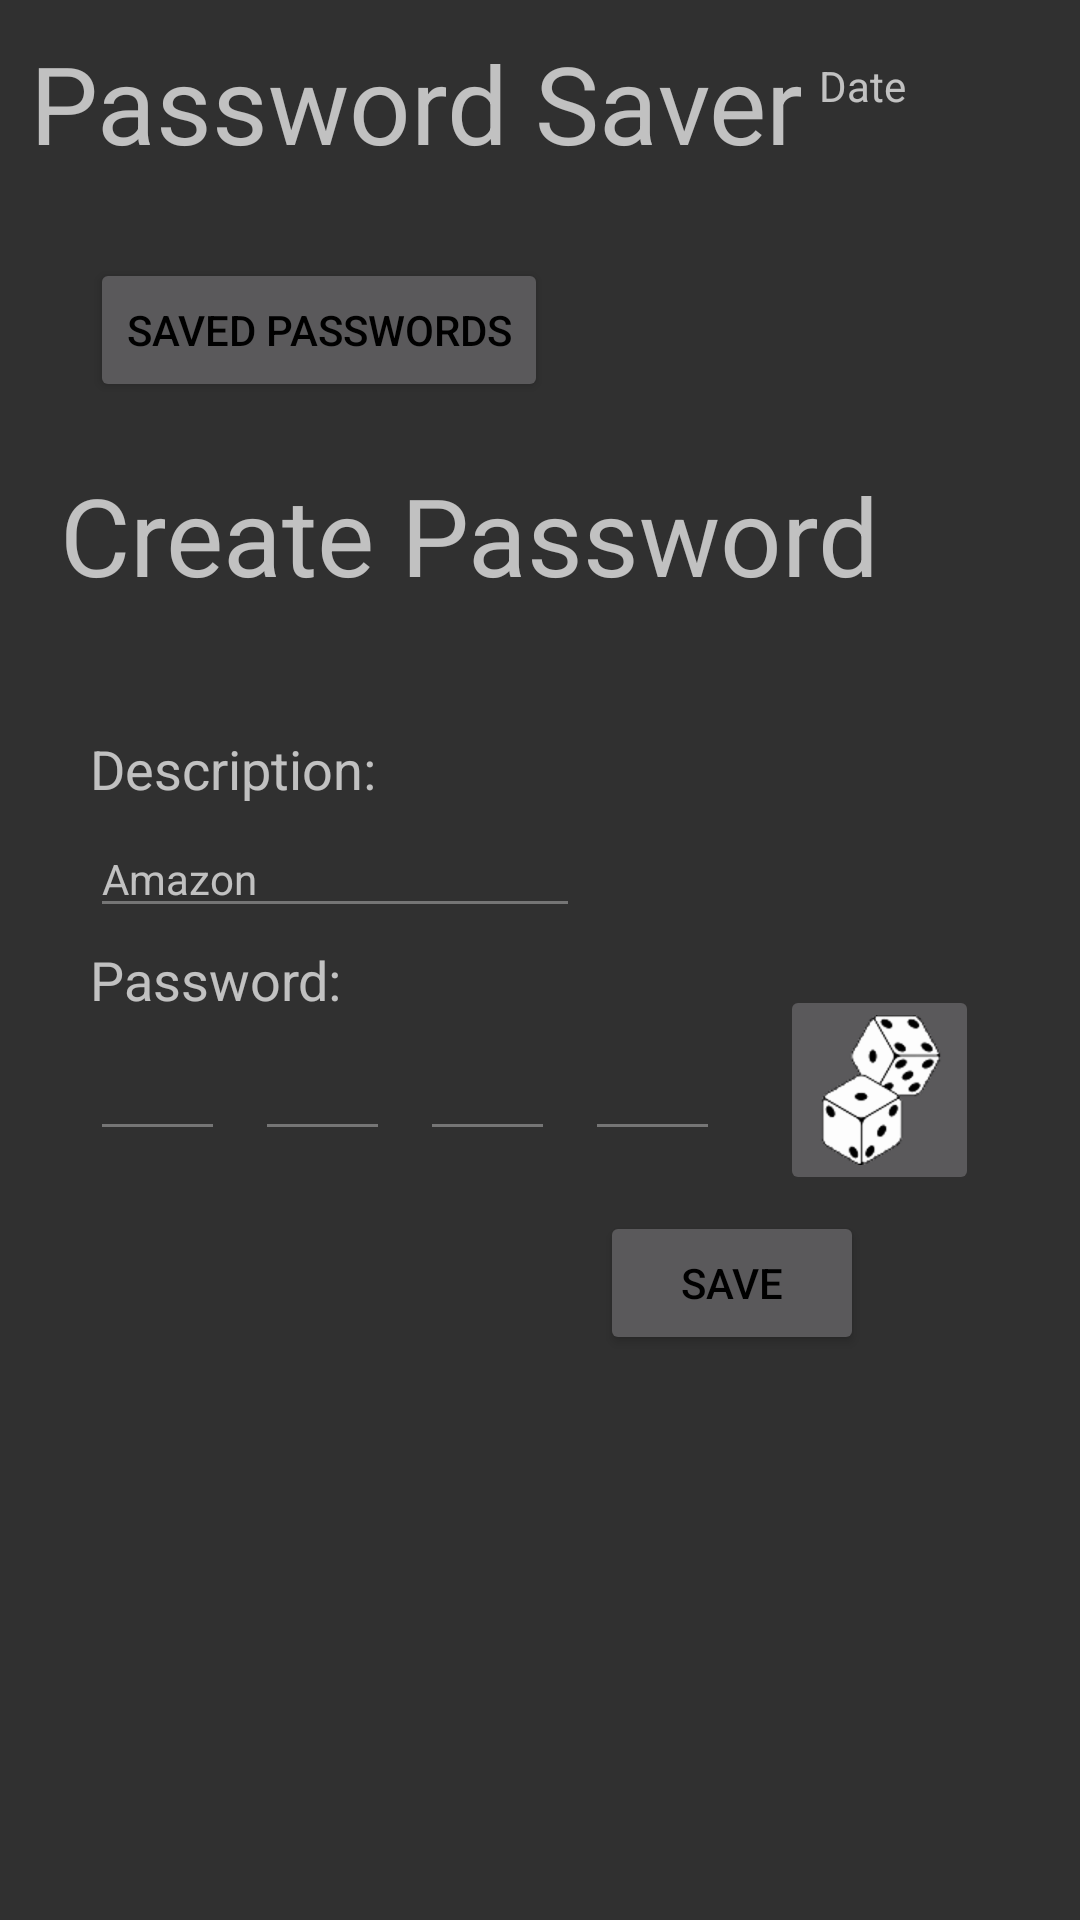

Named icons in this screenshot (1080 x 1920) and their bounding boxes, (x1, y1, x2, y2):
dice: (792, 1003, 967, 1177)
